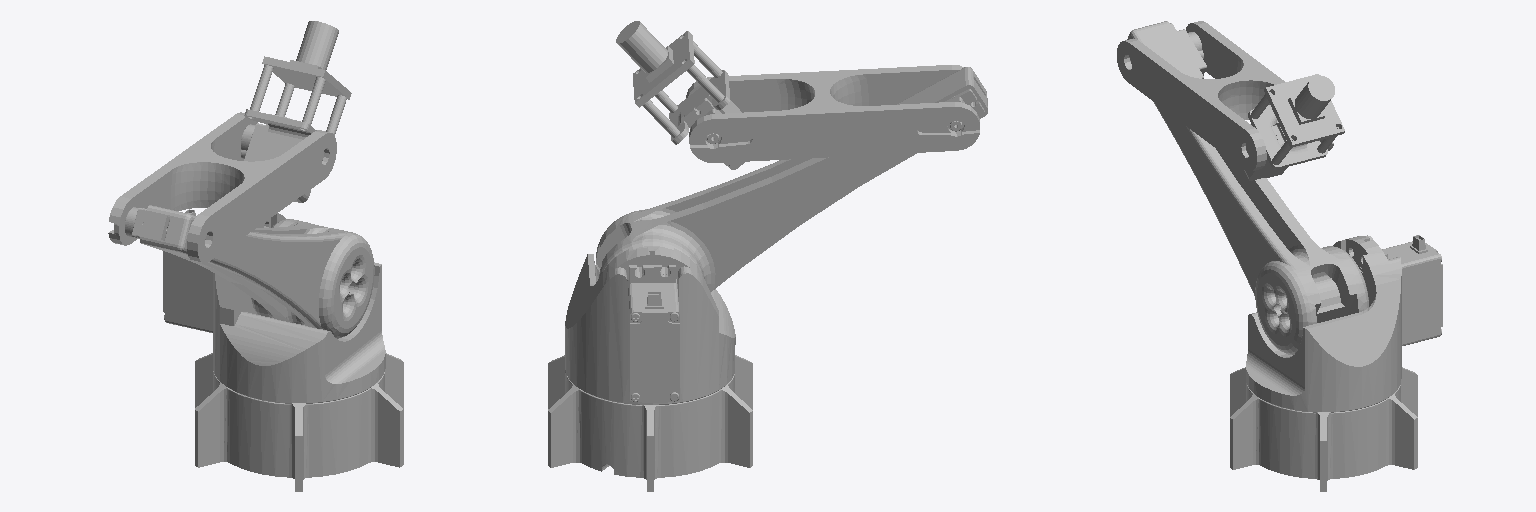
robot.urdf — butter_finger:
<?xml version="1.0"?>
<!--
  Butter Finger CAD model.

  GENERATED FILE. Do not edit by hand.
  Regenerate with: python3 scripts/generate_urdf.py

  Mesh frames, joint transforms, masses, and inertia tensors were exported
  from SolidWorks with SW2URDF on 2026-07-16. The SW2URDF zero-width limits
  were intentionally replaced with calibrated command limits from
  config/joints.yaml. The camera frame uses the recorded optical-center
  transform from config/geometry.yaml; its intrinsics remain provisional.
  Load with useFixedBase=True.
-->
<robot name="butter_finger">
  <material name="cad_grey">
    <color rgba="0.75 0.75 0.75 1"/>
  </material>

  <link name="base_link">
    <visual>
      <origin xyz="0 0 0" rpy="0 0 0"/>
      <geometry>
        <mesh filename="meshes/base_link.stl"/>
      </geometry>
      <material name="cad_grey"/>
    </visual>
    <collision>
      <origin xyz="0 0 0" rpy="0 0 0"/>
      <geometry>
        <mesh filename="meshes/base_link.stl"/>
      </geometry>
    </collision>
    <inertial>
      <origin xyz="4.44769784005585e-06 -0.00272368672308015 -3.52117050677521e-05" rpy="0 0 0"/>
      <mass value="0.117956347342971"/>
      <inertia ixx="5.16379995080435e-05" ixy="-7.1735716911798e-12" ixz="-6.26544070809245e-09" iyy="8.54863593083873e-05" iyz="1.98513945412824e-07" izz="5.24951696421001e-05"/>
    </inertial>
  </link>

  <link name="turret_link">
    <visual>
      <origin xyz="0 0 0" rpy="0 0 0"/>
      <geometry>
        <mesh filename="meshes/turret_link.stl"/>
      </geometry>
      <material name="cad_grey"/>
    </visual>
    <collision>
      <origin xyz="0 0 0" rpy="0 0 0"/>
      <geometry>
        <mesh filename="meshes/turret_link.stl"/>
      </geometry>
    </collision>
    <inertial>
      <origin xyz="0.0216898313941301 -0.000872271219923791 -0.0116026222230294" rpy="0 0 0"/>
      <mass value="0.136250635109382"/>
      <inertia ixx="6.97372418737439e-05" ixy="1.7362293140102e-06" ixz="7.72200245787855e-06" iyy="5.5679349903428e-05" iyz="6.33305847996462e-07" izz="6.11792148050112e-05"/>
    </inertial>
  </link>

  <link name="upper_arm_link">
    <visual>
      <origin xyz="0 0 0" rpy="0 0 0"/>
      <geometry>
        <mesh filename="meshes/upper_arm_link.stl"/>
      </geometry>
      <material name="cad_grey"/>
    </visual>
    <collision>
      <origin xyz="0 0 0" rpy="0 0 0"/>
      <geometry>
        <mesh filename="meshes/upper_arm_link.stl"/>
      </geometry>
    </collision>
    <inertial>
      <origin xyz="0.0441477969675847 -8.44484394296047e-06 0.00791055059896283" rpy="0 0 0"/>
      <mass value="0.0827380990614375"/>
      <inertia ixx="1.42492853790166e-05" ixy="1.8047296268546e-10" ixz="-7.00193626203197e-06" iyy="0.000169030165174317" iyz="1.18551899069e-10" izz="0.000168612981312038"/>
    </inertial>
  </link>

  <link name="forearm_link">
    <visual>
      <origin xyz="0 0 0" rpy="0 0 0"/>
      <geometry>
        <mesh filename="meshes/forearm_link.stl"/>
      </geometry>
      <material name="cad_grey"/>
    </visual>
    <collision>
      <origin xyz="0 0 0" rpy="0 0 0"/>
      <geometry>
        <mesh filename="meshes/forearm_link.stl"/>
      </geometry>
    </collision>
    <inertial>
      <origin xyz="8.88597070924924e-10 -0.0508383452991497 -0.00545674801926912" rpy="0 0 0"/>
      <mass value="0.0294574375311473"/>
      <inertia ixx="3.10077246565589e-05" ixy="-1.61575988957095e-14" ixz="-3.14177560134728e-12" iyy="8.99272677070429e-06" iyz="6.9181222479369e-09" izz="2.40107466157349e-05"/>
    </inertial>
  </link>

  <link name="wrist_link">
    <visual>
      <origin xyz="0 0 0" rpy="0 0 0"/>
      <geometry>
        <mesh filename="meshes/wrist_link.stl"/>
      </geometry>
      <material name="cad_grey"/>
    </visual>
    <collision>
      <origin xyz="0 0 0" rpy="0 0 0"/>
      <geometry>
        <mesh filename="meshes/wrist_link.stl"/>
      </geometry>
    </collision>
    <inertial>
      <origin xyz="0.000452210654536336 0.00898859070235314 -0.00690941410614047" rpy="0 0 0"/>
      <mass value="0.0181766061397578"/>
      <inertia ixx="1.68299814445701e-06" ixy="4.56744756400051e-09" ixz="-3.19456415006301e-09" iyy="1.01953577809695e-06" iyz="-6.21306100109587e-08" izz="1.72788717301146e-06"/>
    </inertial>
  </link>

  <joint name="base_joint" type="revolute">
    <parent link="base_link"/>
    <child link="turret_link"/>
    <origin xyz="0 0 0.01365" rpy="2.1275 -1.5708 0"/>
    <axis xyz="1 0 0"/>
    <limit lower="-1.5708" upper="1.5708" effort="5" velocity="3"/>
  </joint>

  <joint name="shoulder_joint" type="revolute">
    <parent link="turret_link"/>
    <child link="upper_arm_link"/>
    <origin xyz="0.04225 0 0" rpy="0 0 1.0414"/>
    <axis xyz="0 0 1"/>
    <limit lower="-1.53" upper="0" effort="5" velocity="3"/>
  </joint>

  <joint name="elbow_joint" type="revolute">
    <parent link="upper_arm_link"/>
    <child link="forearm_link"/>
    <origin xyz="0.1452 -0.0001 0" rpy="3.1416 0 2.0591"/>
    <axis xyz="0 0 1"/>
    <limit lower="-3.075" upper="0.065" effort="5" velocity="3"/>
  </joint>

  <joint name="wrist_joint" type="revolute">
    <parent link="forearm_link"/>
    <child link="wrist_link"/>
    <origin xyz="0 -0.1 0" rpy="0 0.074136 2.2399"/>
    <axis xyz="0.074068 0 -0.99725"/>
    <limit lower="-2.9824" upper="0.1576" effort="5" velocity="3"/>
  </joint>

  <link name="camera_link">
    <inertial>
      <origin xyz="0 0 0" rpy="0 0 0"/>
      <mass value="0.000001"/>
      <inertia ixx="0.000000000001" ixy="0" ixz="0" iyy="0.000000000001" iyz="0" izz="0.000000000001"/>
    </inertial>
  </link>

  <joint name="camera_joint" type="fixed">
    <parent link="wrist_link"/>
    <child link="camera_link"/>
    <origin xyz="0.011 0.044 0.013" rpy="0 0 0"/>
  </joint>
</robot>

--- What the picture shows (computed from the rendered views, not written in the file) ---
Views: 3 orthographic renders of the robot side by side, from view 1: azimuth 30°, elevation 25°; view 2: azimuth 150°, elevation 25°; view 3: azimuth 270°, elevation 25°.
Robot: butter_finger — 6 links, 5 joints (4 revolute, 1 fixed); root link base_link; default pose: all joints at 0.
Links seen in each view (by area): view 1: turret_link, base_link, upper_arm_link, forearm_link, wrist_link; view 2: turret_link, forearm_link, upper_arm_link, base_link, wrist_link; view 3: turret_link, upper_arm_link, base_link, forearm_link, wrist_link.
Boxes of the visible links, left/top/right/bottom form: turret_link: left=163, top=209, right=385, bottom=403; base_link: left=195, top=353, right=403, bottom=491; upper_arm_link: left=125, top=205, right=374, bottom=338; forearm_link: left=108, top=112, right=336, bottom=263; wrist_link: left=241, top=21, right=351, bottom=202; turret_link: left=565, top=247, right=735, bottom=404; forearm_link: left=686, top=65, right=979, bottom=162; upper_arm_link: left=596, top=67, right=987, bottom=291; base_link: left=548, top=355, right=752, bottom=491; wrist_link: left=616, top=21, right=744, bottom=169; turret_link: left=1246, top=235, right=1442, bottom=412; upper_arm_link: left=1127, top=21, right=1368, bottom=354; base_link: left=1230, top=367, right=1417, bottom=491; forearm_link: left=1117, top=21, right=1333, bottom=171; wrist_link: left=1244, top=74, right=1344, bottom=180.
Size in the robot's own frame: 0.1708 by 0.147 by 0.1873 metres.
5 mesh visuals loaded from 5 distinct referenced files (5 binary STL).
